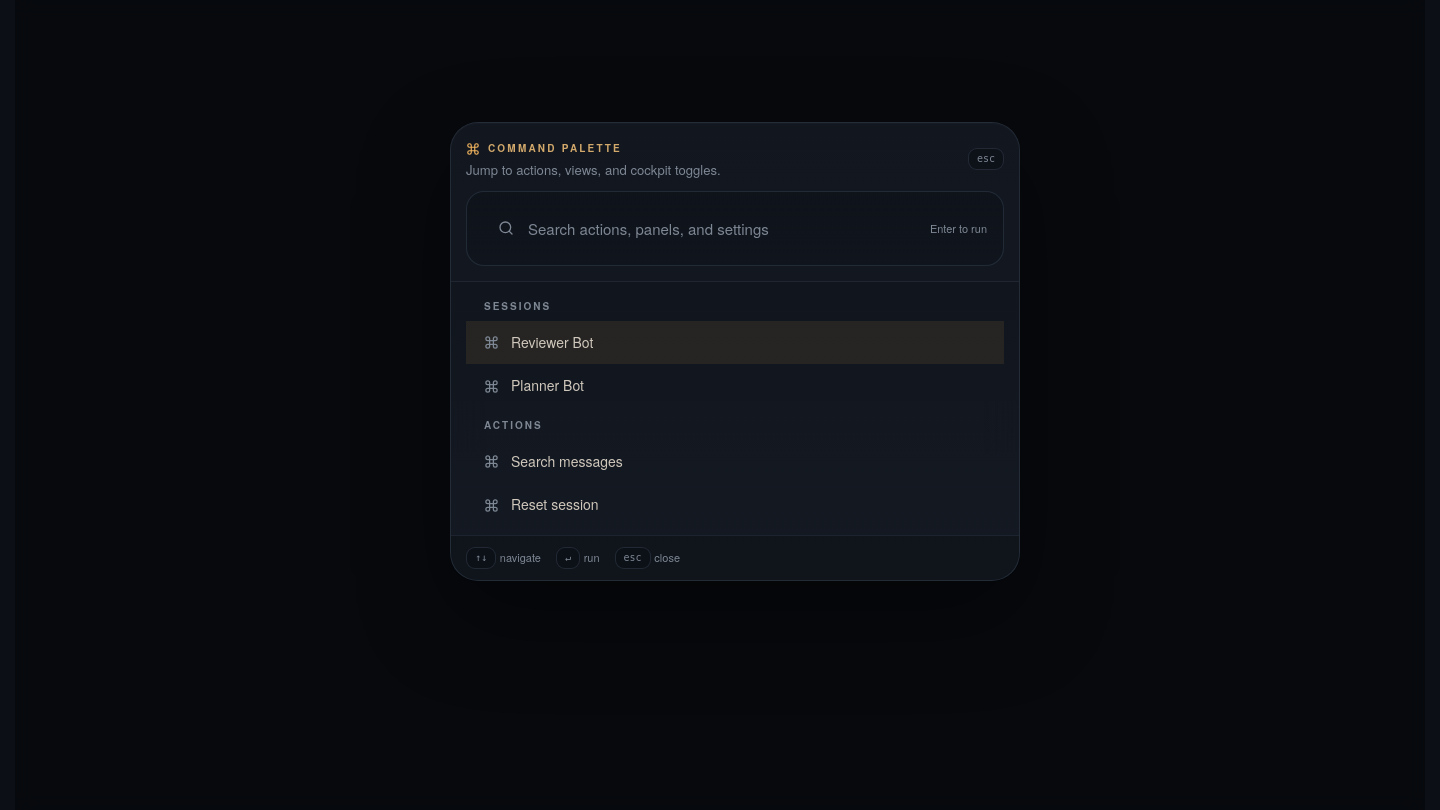
CommandPalette session entries › narrows results to matching session commands when typing
The image size is (1440, 810).
Type "reviewer" into the field with placeholder "Search actions, panels, and settings".
click(722, 228); type("reviewer")  # box [528, 206, 916, 251]
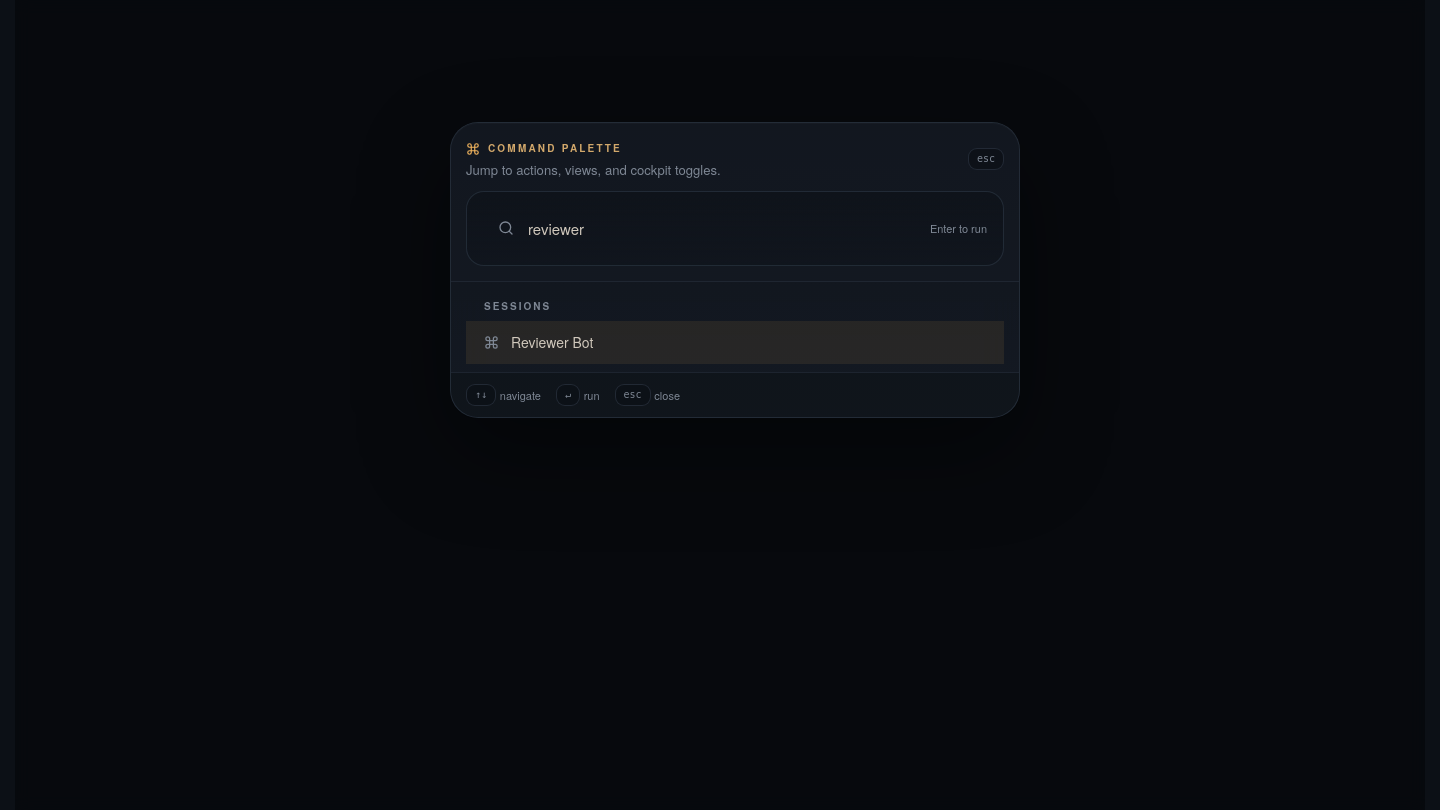
Check: the text "Reviewer Bot" is shown, box [511, 332, 593, 352]
Check: the button "Planner Bot" is gone
Check: the button "Search messages" is gone
